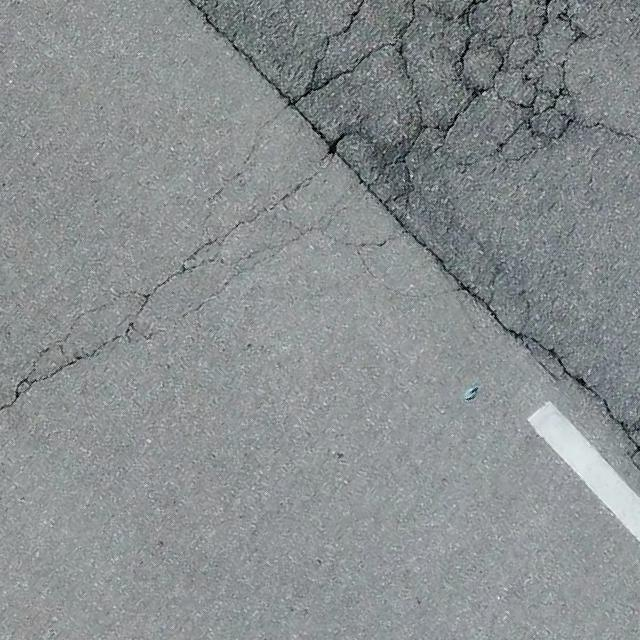GRIETA: (334, 152, 639, 452), (188, 0, 338, 155), (577, 119, 639, 144)
PIEL DE COCODRILO: (0, 104, 464, 428), (291, 0, 587, 333)
